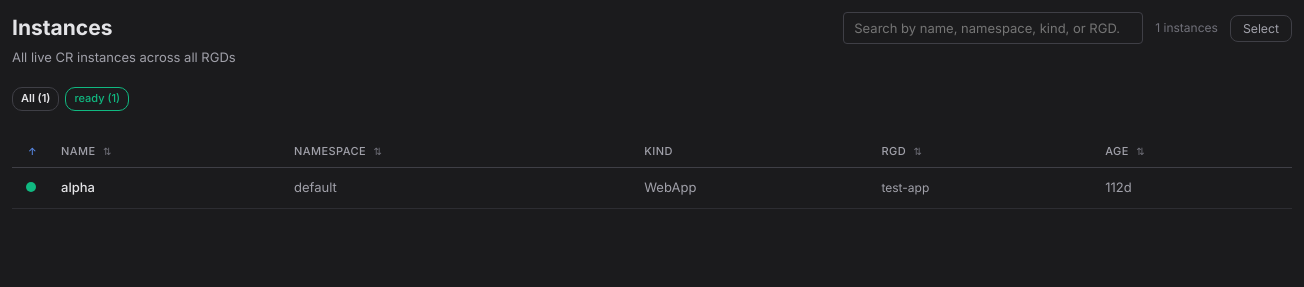
InstancesPage bulk operations (spec issue-536) › "Clear" exits selection mode
Click the button with test id "instances-select-btn" at (1261, 28), box [1230,14,1292,42]
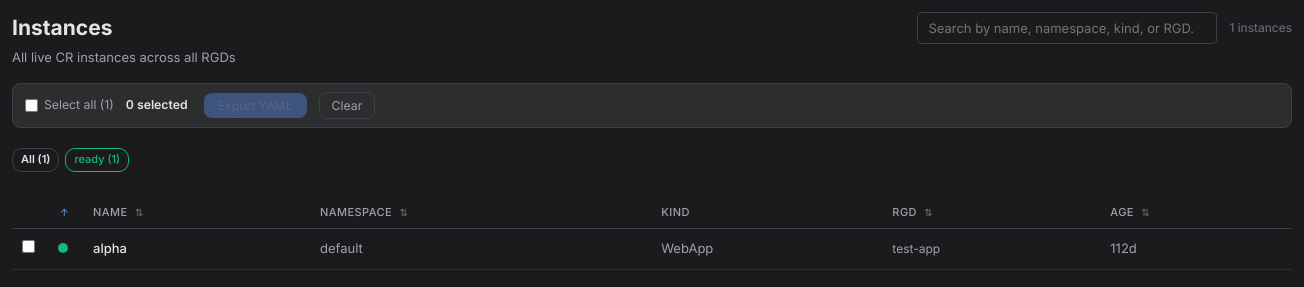
Expected: the element with test id "instances-selection-toolbar" is shown, [12,83,1292,128]
Click the button with test id "instances-selection-clear" at (347, 106), box [319,92,375,119]
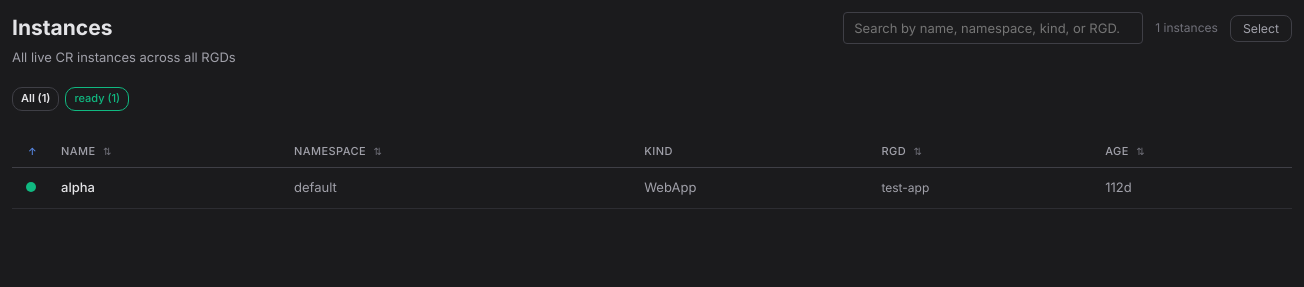
Expected: the button with test id "instances-select-btn" is shown, [1230,14,1292,42]
Expected: the element with test id "instances-selection-toolbar" is gone
